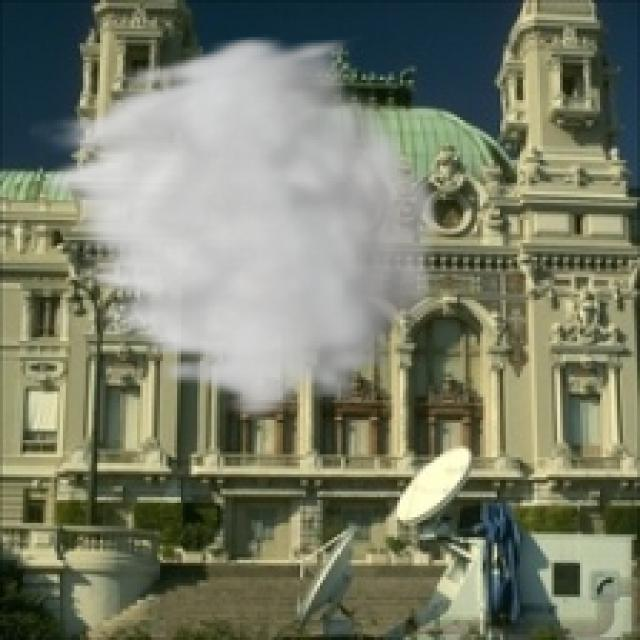Smoke: (26, 31, 448, 426)
